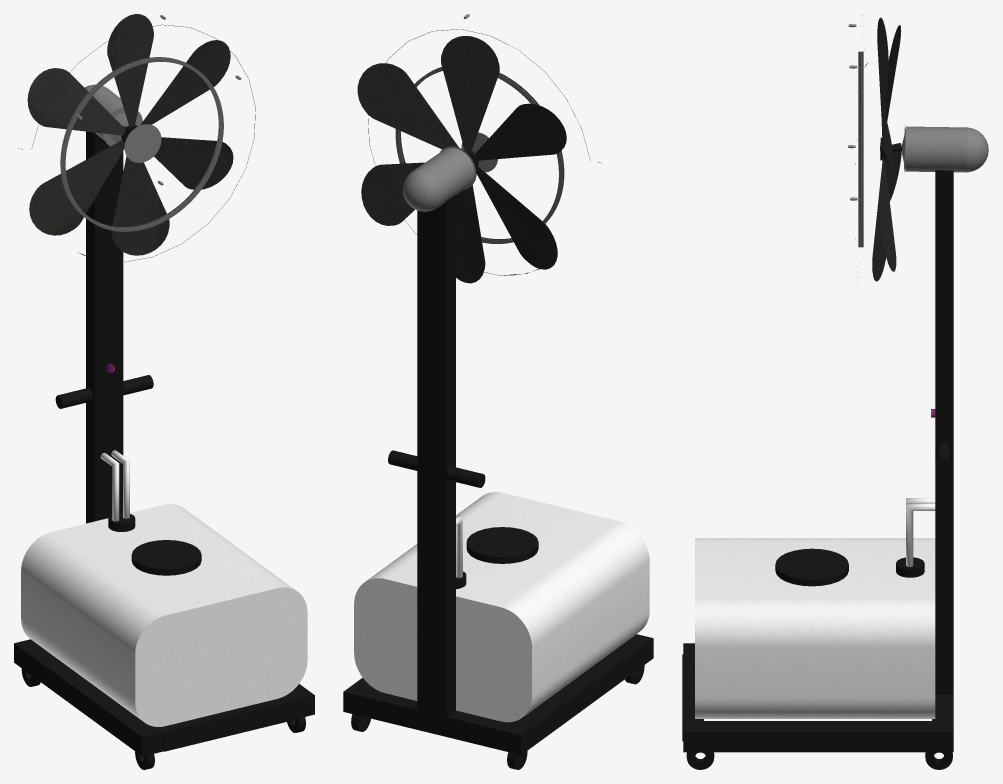
The model's file is table_fan.glb.
3 renders of one model, left to right at view 1: azimuth 30°, elevation 25°; view 2: azimuth 150°, elevation 25°; view 3: azimuth 270°, elevation 25°, orthographic. The views are drawn at different scales.
Visible parts, largest first — view 1: Object_7, Object_5, Object_6, Object_2, Object_4; view 2: Object_7, Object_5, Object_6, Object_4, Object_2; view 3: Object_7, Object_5, Object_6, Object_4, Object_2.
Part boxes in pixels (x1,y1,x2,y2): Object_7: [21, 450, 307, 726]; Object_5: [14, 18, 314, 769]; Object_6: [27, 14, 233, 255]; Object_2: [60, 57, 223, 231]; Object_4: [84, 84, 161, 162]; Object_7: [354, 492, 649, 722]; Object_5: [343, 17, 653, 769]; Object_6: [357, 36, 566, 283]; Object_4: [402, 132, 497, 211]; Object_2: [395, 67, 564, 243]; Object_7: [695, 498, 935, 718]; Object_5: [682, 14, 953, 769]; Object_6: [872, 17, 901, 281]; Object_4: [902, 125, 988, 172]; Object_2: [858, 51, 863, 247].
Size of the model in its own units: 0.6455 by 1.79 by 0.6962.
Materials: 7 (5 with a texture image).
